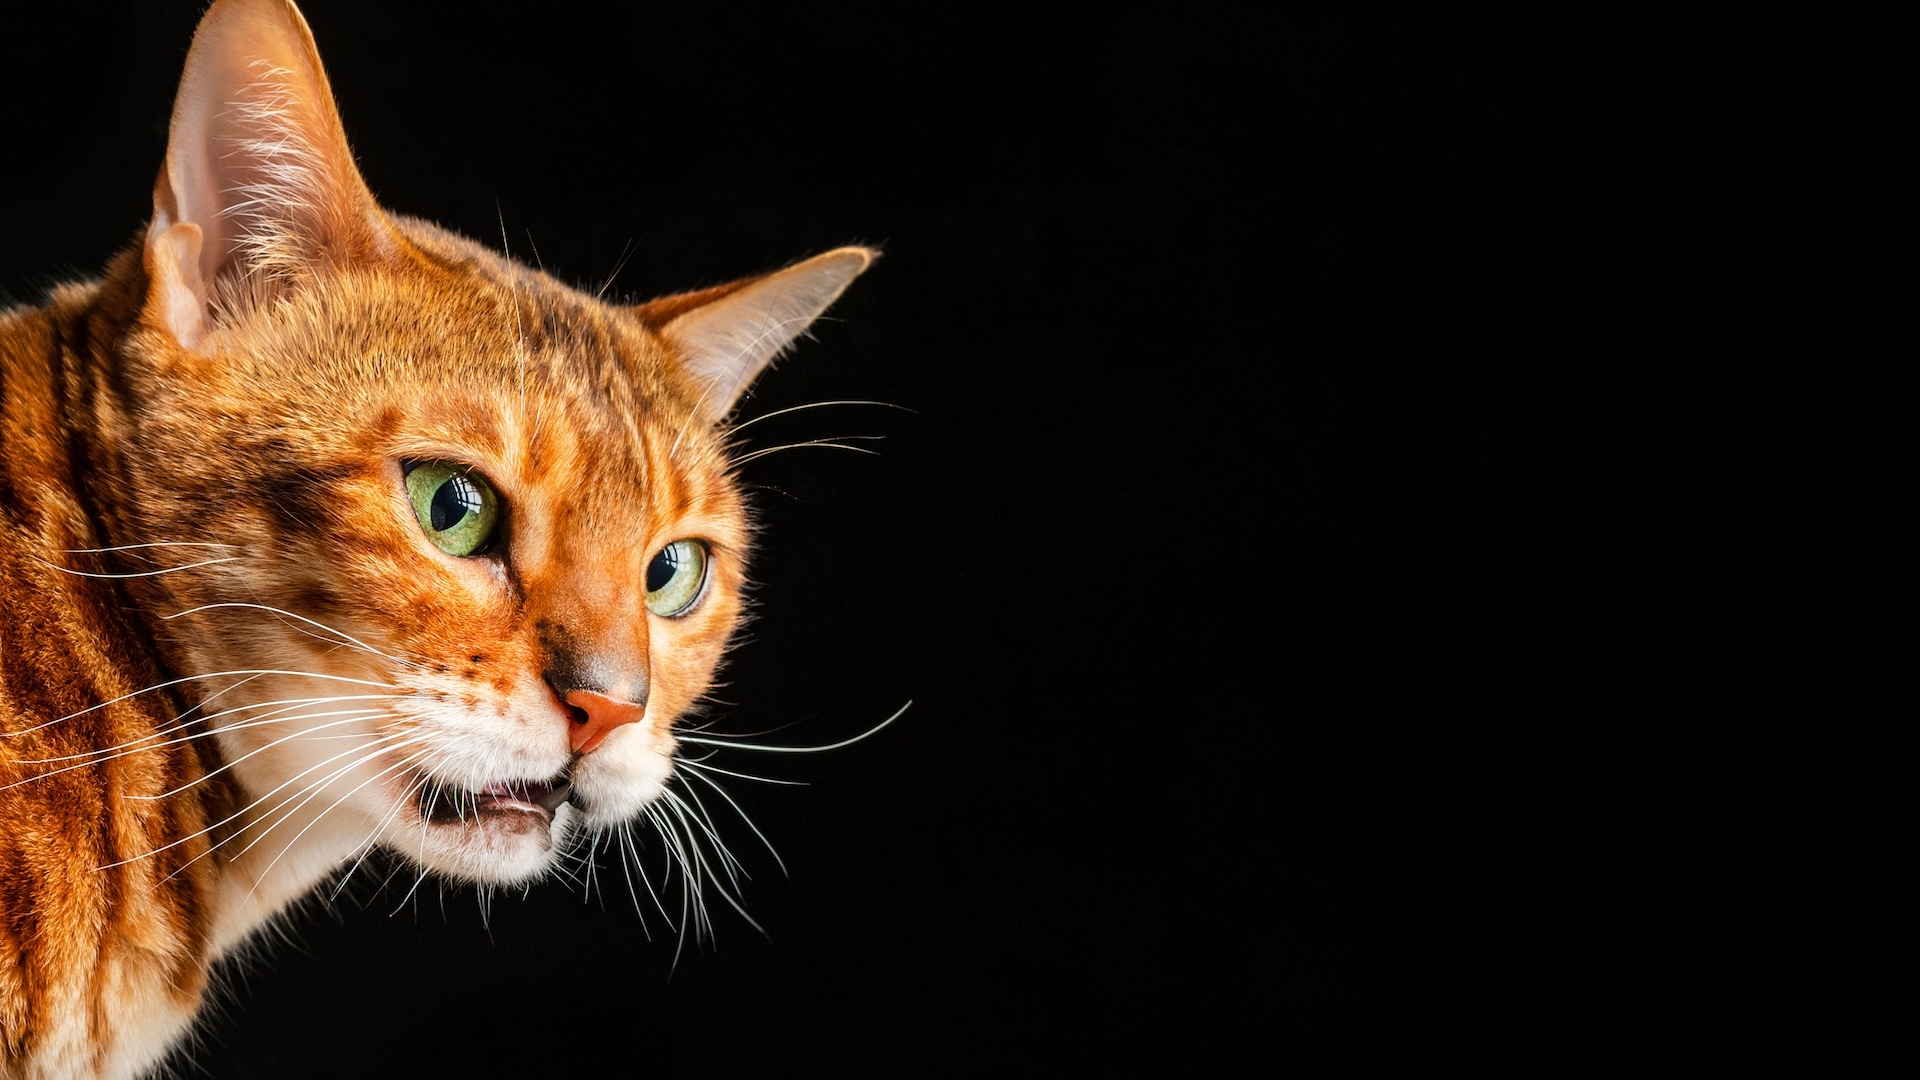cat: (0, 57, 913, 1080)
